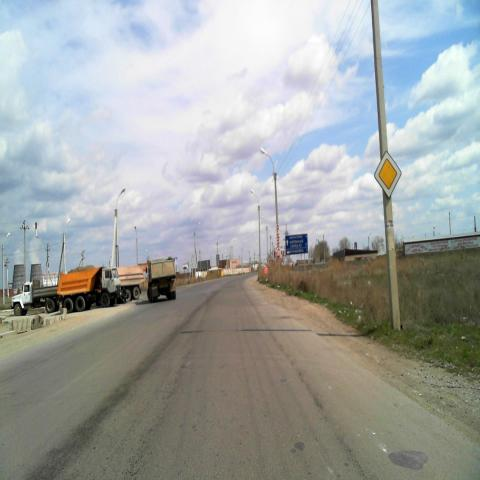2_1: (374, 151, 402, 197)
